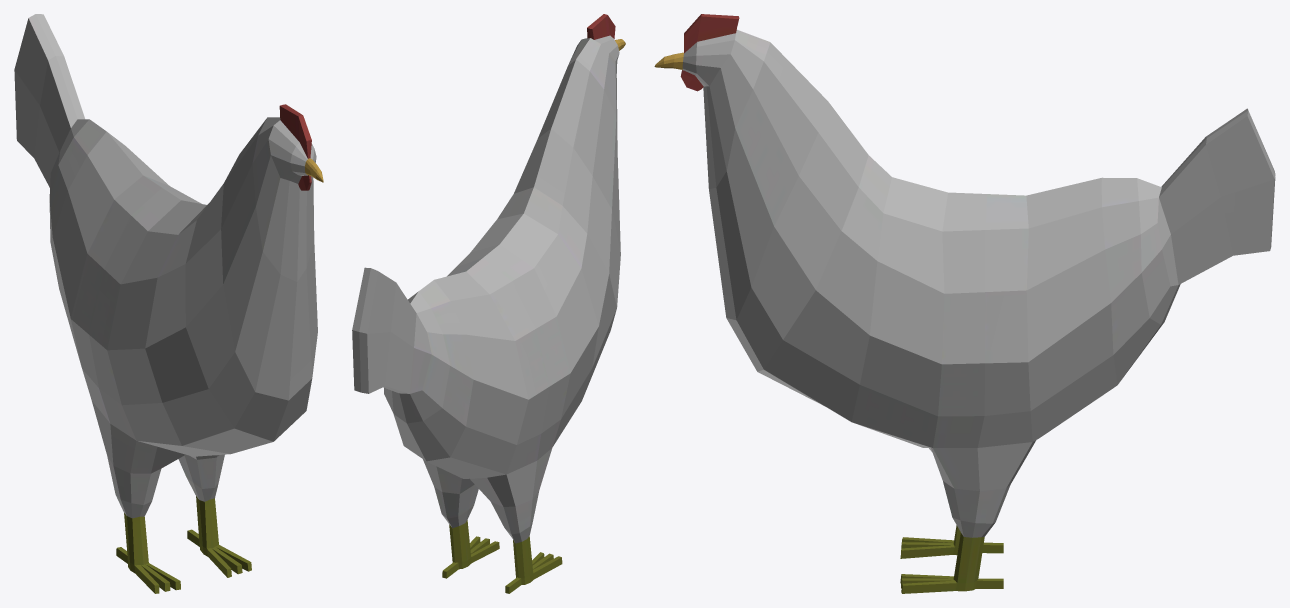
Rendered from chicken.glb.
The picture shows the model from 3 angles, left to right: view 1: azimuth 30°, elevation 25°; view 2: azimuth 150°, elevation 25°; view 3: azimuth 270°, elevation 25°; orthographic projection. The views are drawn at different scales.
Parts seen in each view (by area): view 1: 21chikenFinal; view 2: 21chikenFinal; view 3: 21chikenFinal.
Boxes of the visible parts, box(x1,y1,x2,y2) form: 21chikenFinal: box(14, 14, 323, 593); 21chikenFinal: box(352, 14, 625, 593); 21chikenFinal: box(654, 14, 1275, 593).
Size of the model in its own units: 0.1421 by 0.4752 by 0.4811.
Materials: 1 (1 with a texture image).
